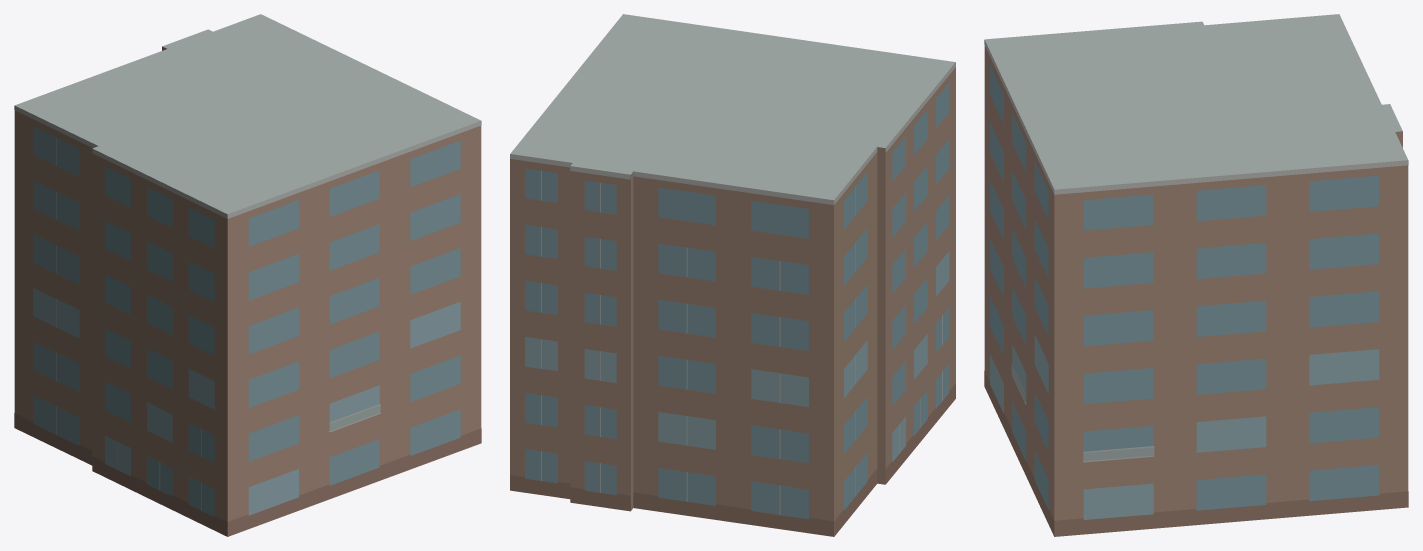
Rendered from survey-upis-32569788.glb.
3 renders of one model, left to right at view 1: azimuth 30°, elevation 25°; view 2: azimuth 150°, elevation 25°; view 3: azimuth 270°, elevation 25°, orthographic. The views are drawn at different scales.
Visible parts, largest first — view 1: survey-upis-32569788.tmp; view 2: survey-upis-32569788.tmp; view 3: survey-upis-32569788.tmp.
Part boxes in pixels (bbox=[...]): survey-upis-32569788.tmp: bbox=[14, 14, 481, 536]; survey-upis-32569788.tmp: bbox=[510, 14, 955, 536]; survey-upis-32569788.tmp: bbox=[984, 14, 1408, 536].
Size of the model in its own units: 18.25 by 16.8 by 18.61.
